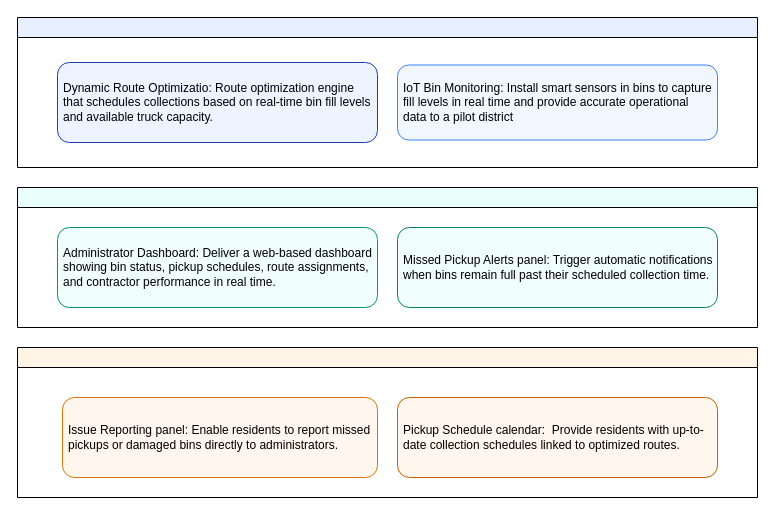
Some shapes in this 775 by 515 pixel diagram are drawn without their labels. Each missing label, with the box of its shape:
Admin Core (Web App v1.0): (16, 186, 758, 328)
Foundation: (16, 16, 758, 168)
Resident Core (Mobile App v1.0): (16, 346, 758, 498)
